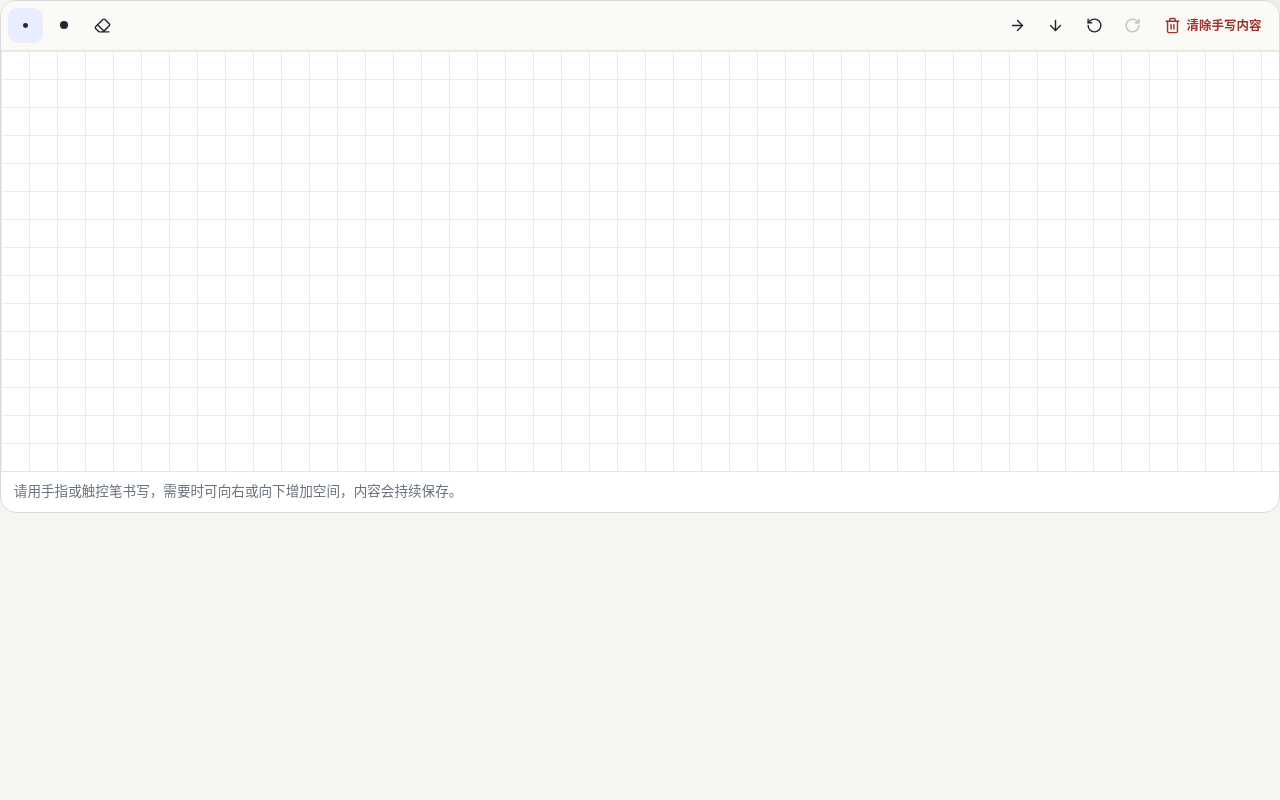
Test: HandwritingCanvas › keeps the destructive clear action labelled in zh
Click the button "清除手写内容".
click(1213, 25)  # box [1154,8,1272,43]
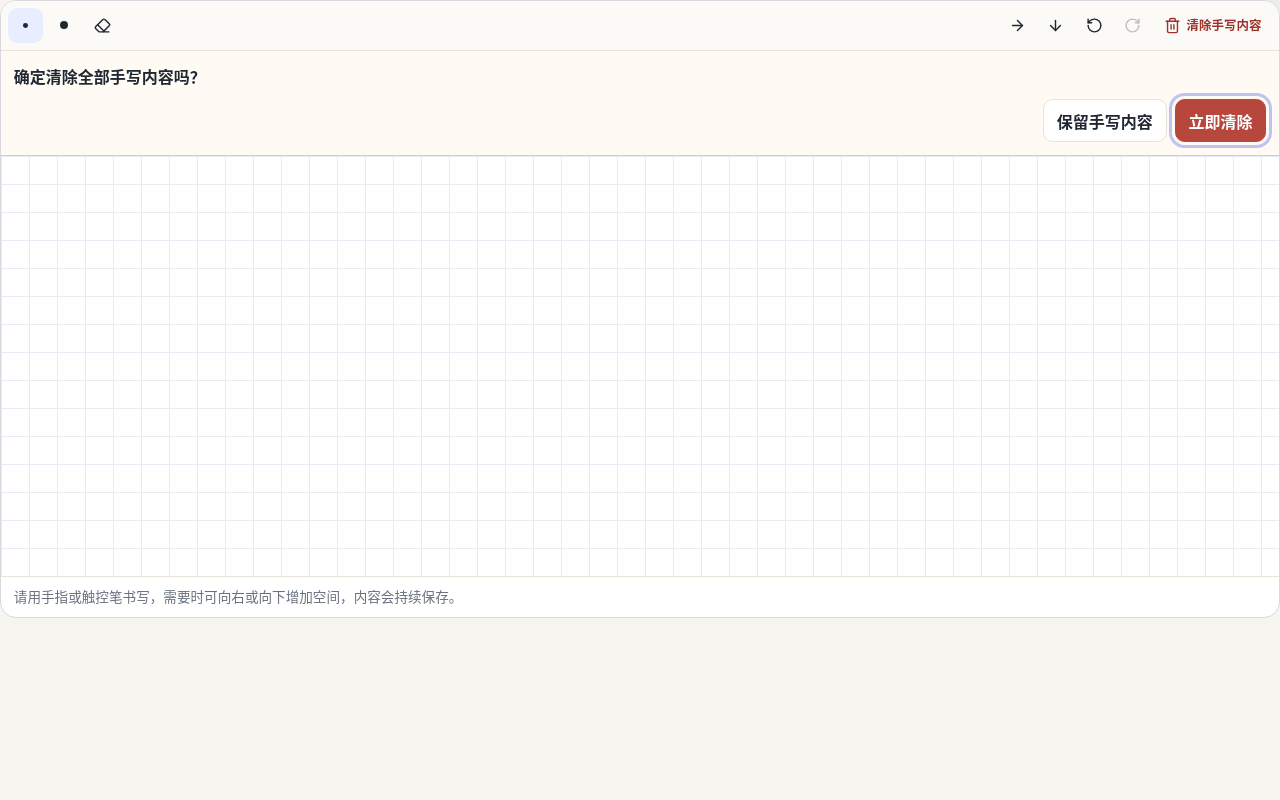
Expected: the button "立即清除" is shown, [1175,99,1266,142]
